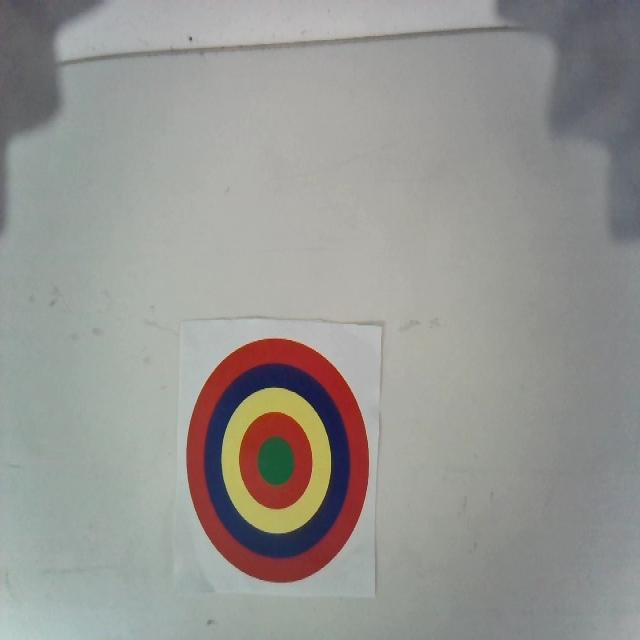cogn: (187, 336, 370, 580)
